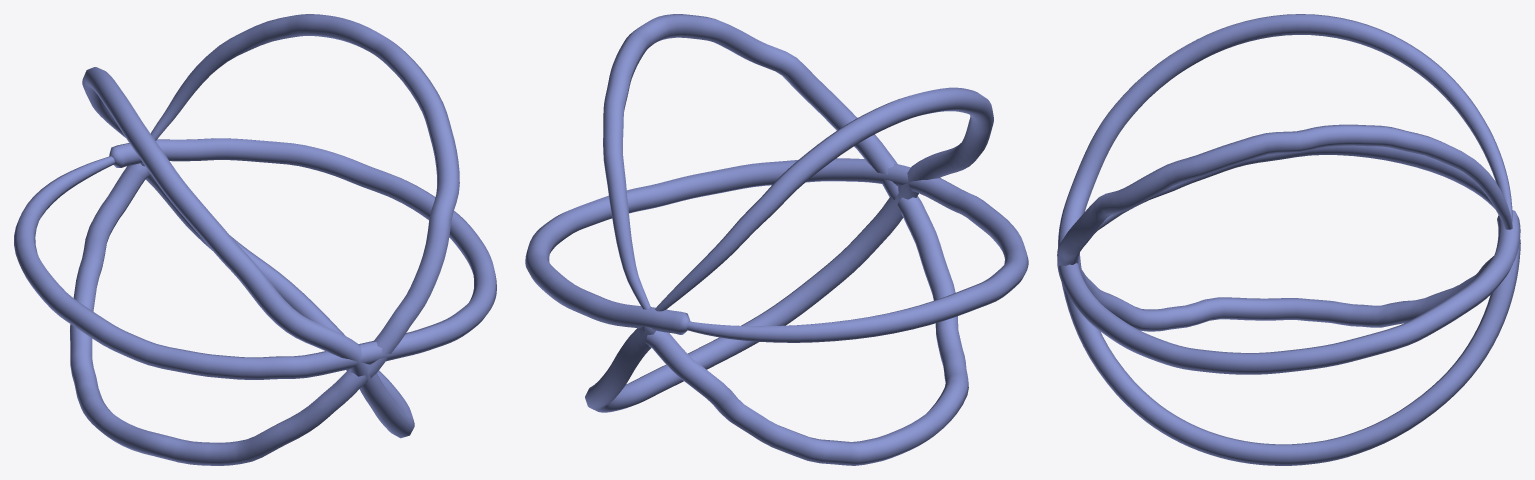
The picture shows the model from 3 angles, left to right: view 1: azimuth 30°, elevation 25°; view 2: azimuth 150°, elevation 25°; view 3: azimuth 270°, elevation 25°; orthographic projection. The views are drawn at different scales.
Parts seen in each view (by area): view 1: brush_ChromaticWave_g0_b0; view 2: brush_ChromaticWave_g0_b0; view 3: brush_ChromaticWave_g0_b0.
Boxes of the visible parts, x1,y1,x2,y2 form: brush_ChromaticWave_g0_b0: [14, 14, 496, 465]; brush_ChromaticWave_g0_b0: [525, 14, 1028, 465]; brush_ChromaticWave_g0_b0: [1057, 14, 1520, 465].
Bounding box in the file's own units: 2.06 × 1.67 × 2.07.
